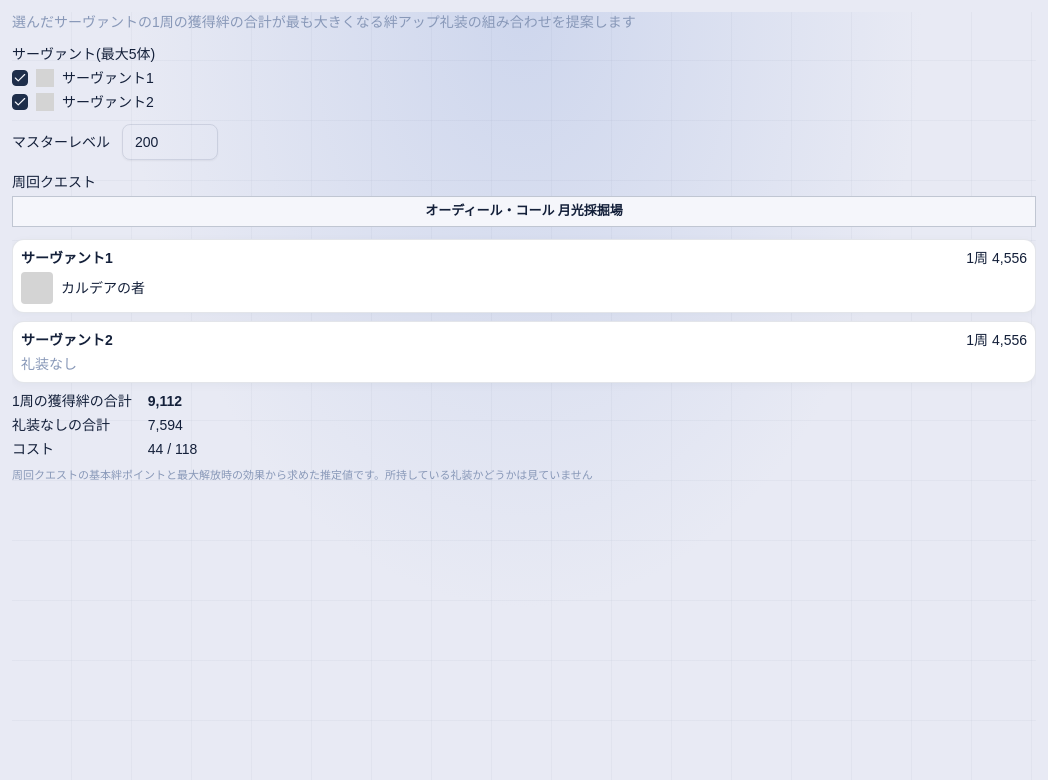
Test: CraftEssenceAdvisor › asks to select servants and hides the quest when every selection is cleared
Click the 1st checkbox at (20, 78), box [12,70,28,86]
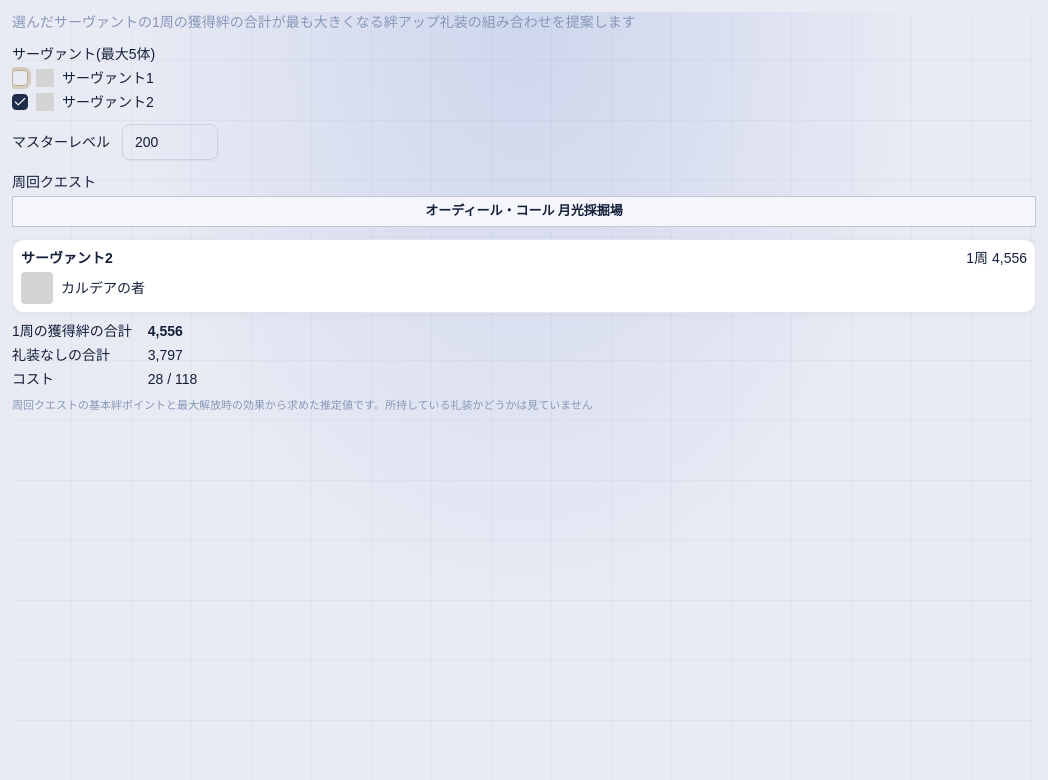
Click the 2nd checkbox at (20, 102), box [12,94,28,110]
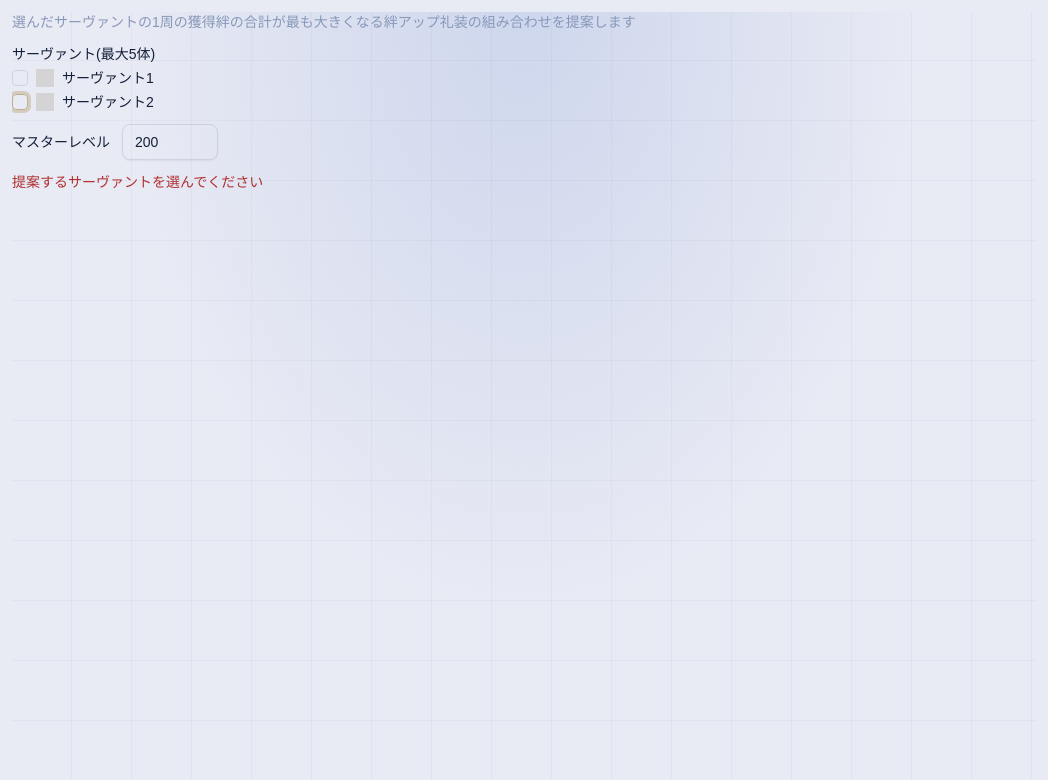
expect the text "提案するサーヴァントを選んでください" is shown: met, box [12,174,263,190]
expect the label labelled "周回クエスト" is gone: met
expect the element with test id "bond-advisor-result" is gone: met
